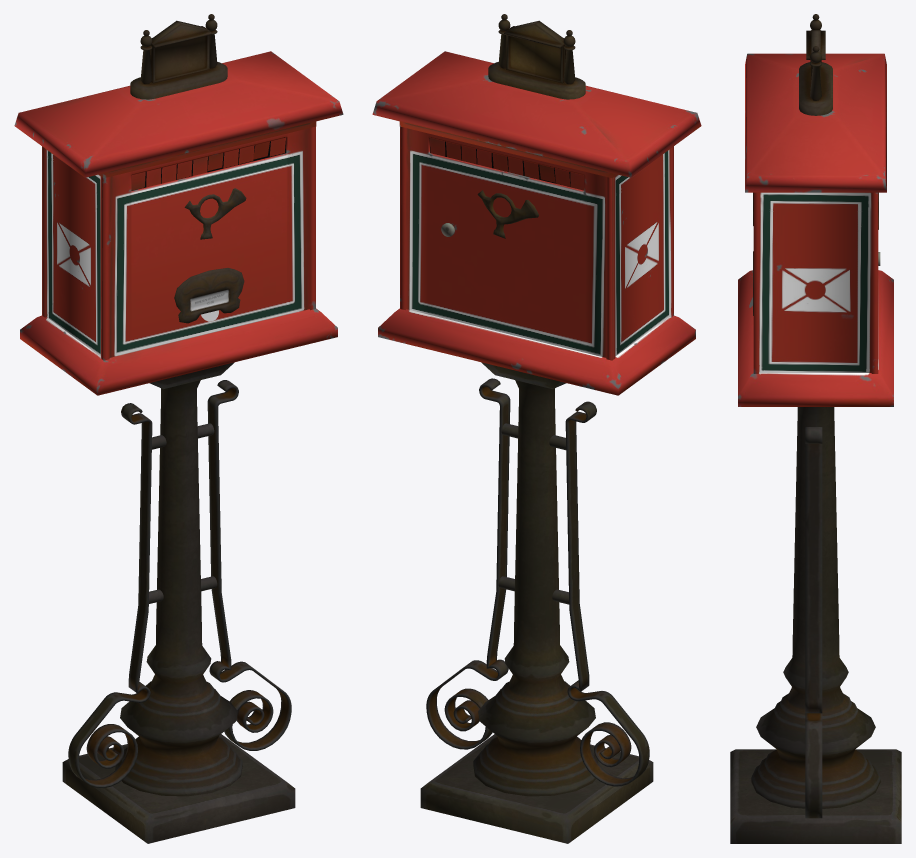
3 views of the same model, side by side, from view 1: azimuth 30°, elevation 25°; view 2: azimuth 150°, elevation 25°; view 3: azimuth 270°, elevation 25° (orthographic).
Visible parts, largest first — view 1: body_LP, leg_LP, top_LP, leg_decor_LP, bottom_LP, stand_LP, top_ornament_LP, decor_front_LP, flaps_front_LP, logo_front_LP, leg_decor_cilinder_LP, leg_top_LP; view 2: body_LP, leg_LP, top_LP, leg_decor_LP, bottom_LP, stand_LP, top_ornament_LP, flaps_back_LP, logo_back_LP, leg_decor_cilinder_LP, leg_top_LP; view 3: body_LP, leg_LP, top_LP, stand_LP, bottom_LP, leg_decor_LP, top_ornament_LP.
Part boxes in pixels (x1,y1,x2,y2): body_LP: (42, 126, 315, 360); leg_LP: (115, 380, 242, 796); top_LP: (14, 51, 343, 178); leg_decor_LP: (68, 380, 291, 788); bottom_LP: (20, 308, 337, 395); stand_LP: (62, 734, 295, 843); top_ornament_LP: (130, 14, 227, 99); decor_front_LP: (174, 268, 244, 323); flaps_front_LP: (131, 137, 285, 190); logo_front_LP: (184, 188, 246, 239); leg_decor_cilinder_LP: (149, 423, 217, 603); leg_top_LP: (149, 362, 234, 389); body_LP: (400, 126, 673, 360); leg_LP: (473, 380, 600, 796); top_LP: (372, 51, 701, 178); leg_decor_LP: (426, 378, 649, 786); bottom_LP: (378, 308, 695, 395); stand_LP: (420, 734, 653, 843); top_ornament_LP: (488, 14, 585, 99); flaps_back_LP: (430, 138, 584, 190); logo_back_LP: (477, 190, 538, 238); leg_decor_cilinder_LP: (498, 423, 569, 604); leg_top_LP: (481, 362, 566, 389); body_LP: (753, 192, 878, 373); leg_LP: (751, 407, 880, 808); top_LP: (745, 53, 886, 192); stand_LP: (730, 749, 901, 843); bottom_LP: (738, 270, 893, 406); leg_decor_LP: (805, 427, 822, 818); top_ornament_LP: (799, 14, 832, 115).
Size of the model in its own units: 0.4925 by 1.41 by 0.2809.
1 material, 1 textured.
